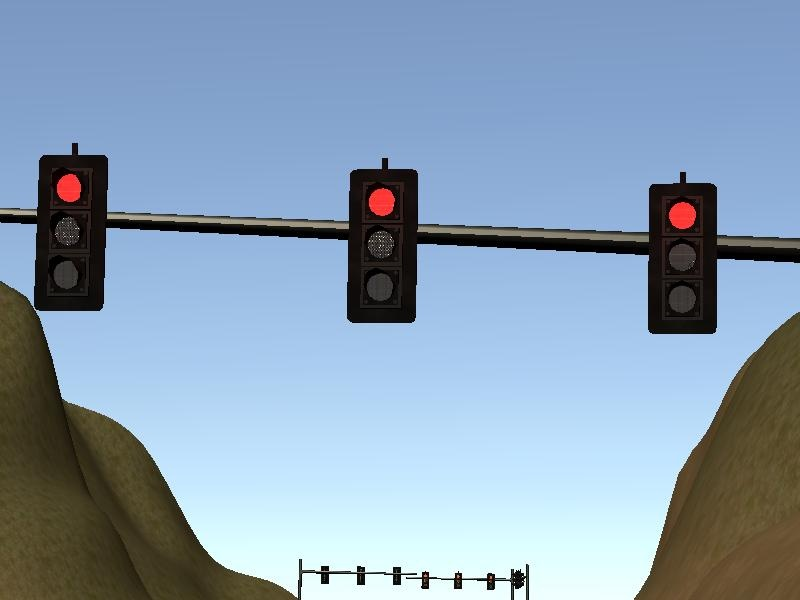RED: (347, 169, 418, 324), (34, 155, 105, 310), (648, 183, 717, 333)
